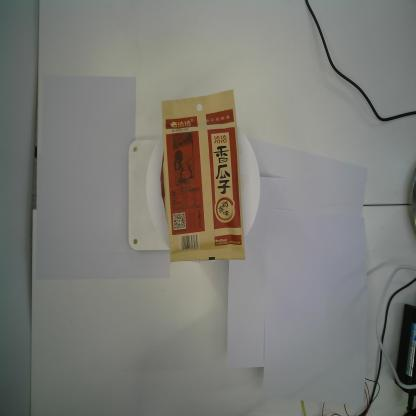Dried Food: (158, 87, 246, 265)
